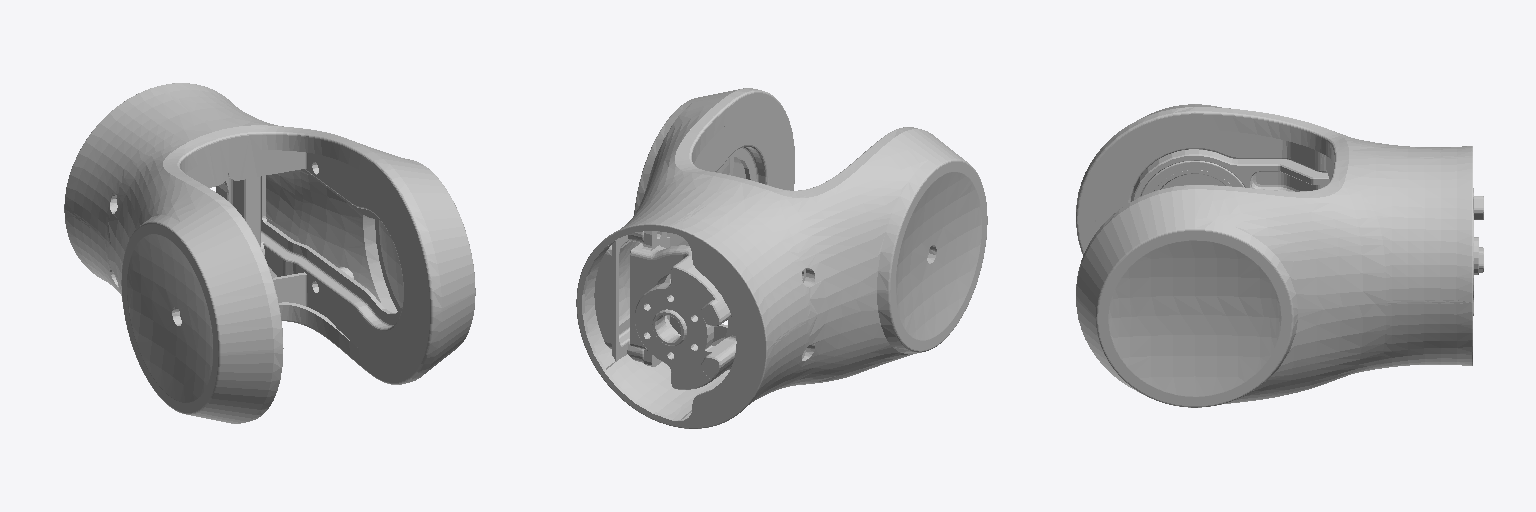
The model's file is l_arm_roll.obj.
3 renders of one model, left to right at view 1: azimuth 30°, elevation 25°; view 2: azimuth 150°, elevation 25°; view 3: azimuth 270°, elevation 25°, orthographic.
Visible parts, largest first — view 1: obj1; view 2: obj1; view 3: obj1.
Part boxes in pixels (x1,y1,x2,y2): obj1: (64, 83, 475, 423); obj1: (576, 88, 987, 428); obj1: (1076, 104, 1483, 407).
Bounding box in the file's own units: 0.122 × 0.098 × 0.168.